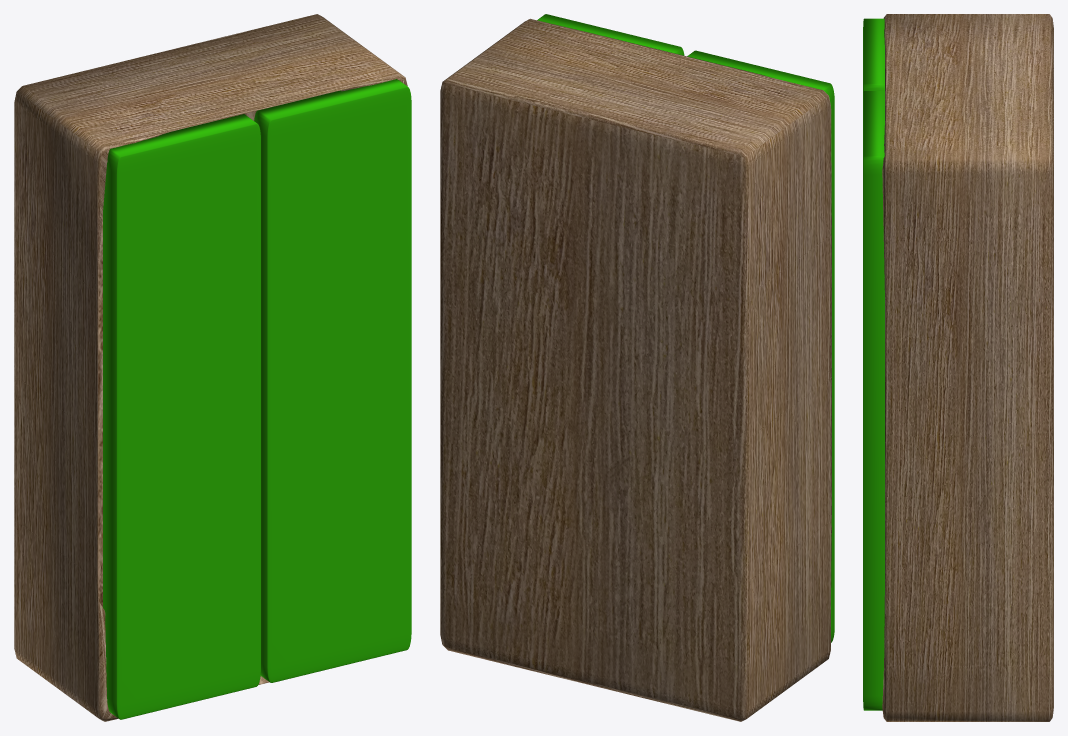
Rendered from wardrobe.fbx.
3 renders of one model, left to right at view 1: azimuth 30°, elevation 25°; view 2: azimuth 150°, elevation 25°; view 3: azimuth 270°, elevation 25°, orthographic.
Parts seen in each view (by area): view 1: door1.001, door1, wardrobeshit; view 2: wardrobeshit, door1.001, door1; view 3: wardrobeshit, door1, door1.001.
Boxes of the visible parts, bbox=[...] form: door1.001: bbox=[103, 114, 260, 719]; door1: bbox=[254, 79, 411, 682]; wardrobeshit: bbox=[14, 14, 407, 721]; wardrobeshit: bbox=[440, 18, 831, 721]; door1.001: bbox=[687, 50, 834, 642]; door1: bbox=[537, 14, 684, 55]; wardrobeshit: bbox=[882, 14, 1053, 721]; door1: bbox=[863, 91, 884, 710]; door1.001: bbox=[863, 18, 884, 98].
Size of the model in its own units: 260 by 460 by 141.
